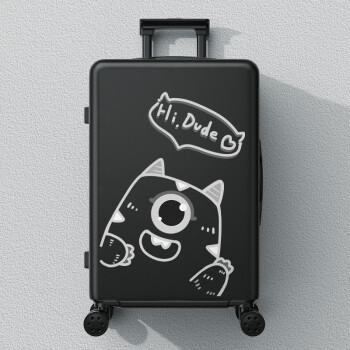box: (90, 59, 259, 306)
wheel: (83, 311, 109, 337), (240, 313, 266, 337)
